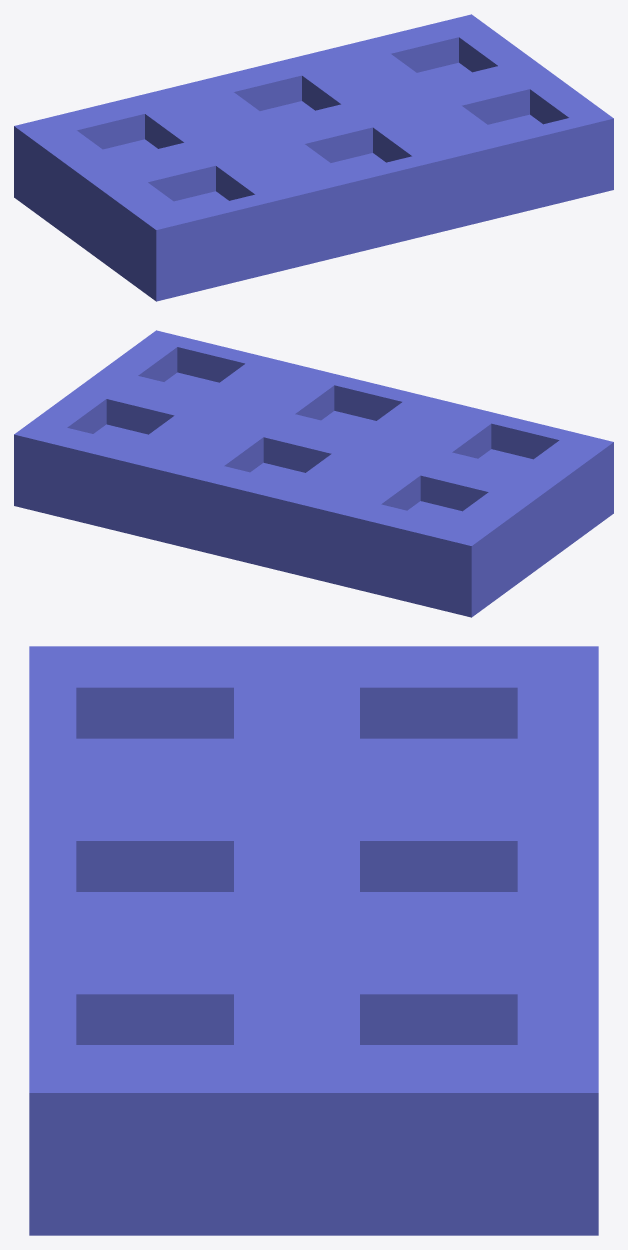
File: SensoryCubeTray.fbx
The picture shows the model from 3 angles, top to bottom: view 1: azimuth 30°, elevation 25°; view 2: azimuth 150°, elevation 25°; view 3: azimuth 270°, elevation 25°; orthographic projection. The views are drawn at different scales.
Visible parts, largest first — view 1: Cube Tray 1; view 2: Cube Tray 1; view 3: Cube Tray 1.
Boxes of the visible parts, x1,y1,x2,y2 form: Cube Tray 1: [14, 14, 613, 301]; Cube Tray 1: [14, 330, 613, 617]; Cube Tray 1: [29, 646, 598, 1235].
Size of the model in its own units: 86.29 by 12.87 by 46.47.
